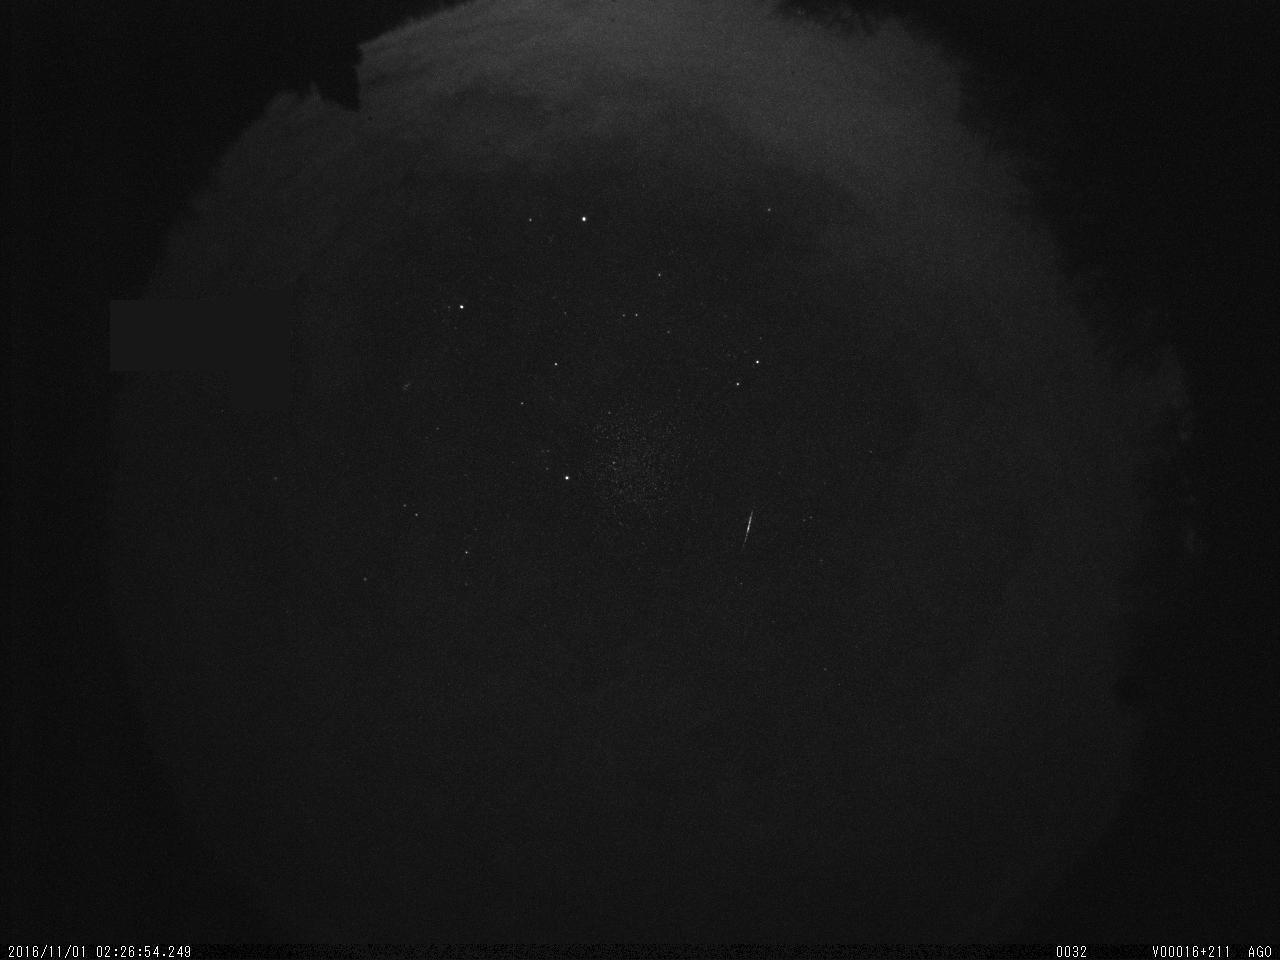Meteor: (739, 505, 757, 548)
